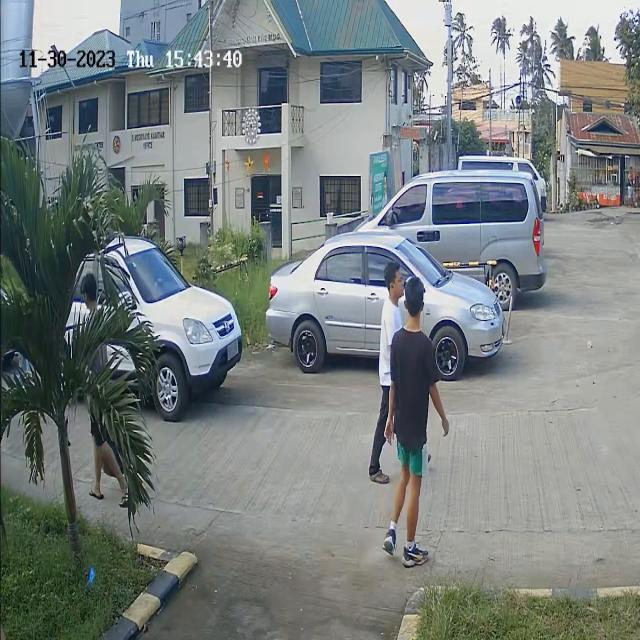human: (395, 283, 433, 569)
